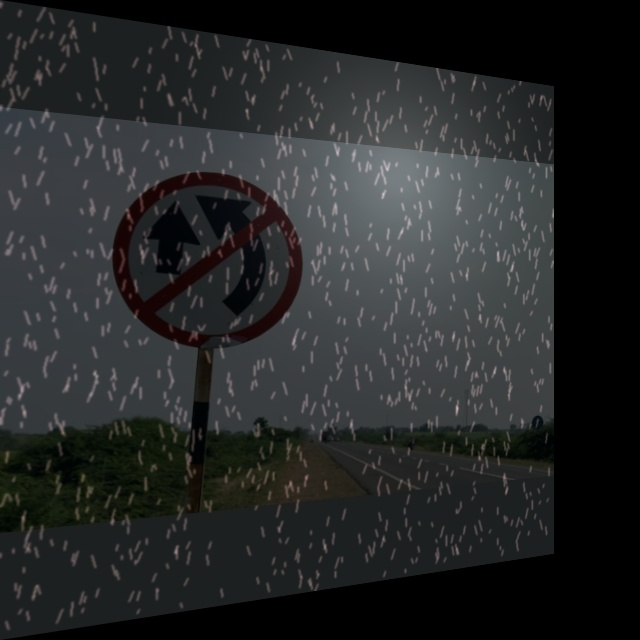Overtaking_Prohibited: (115, 164, 301, 352)
